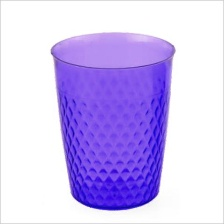glass: (45, 23, 182, 214)
